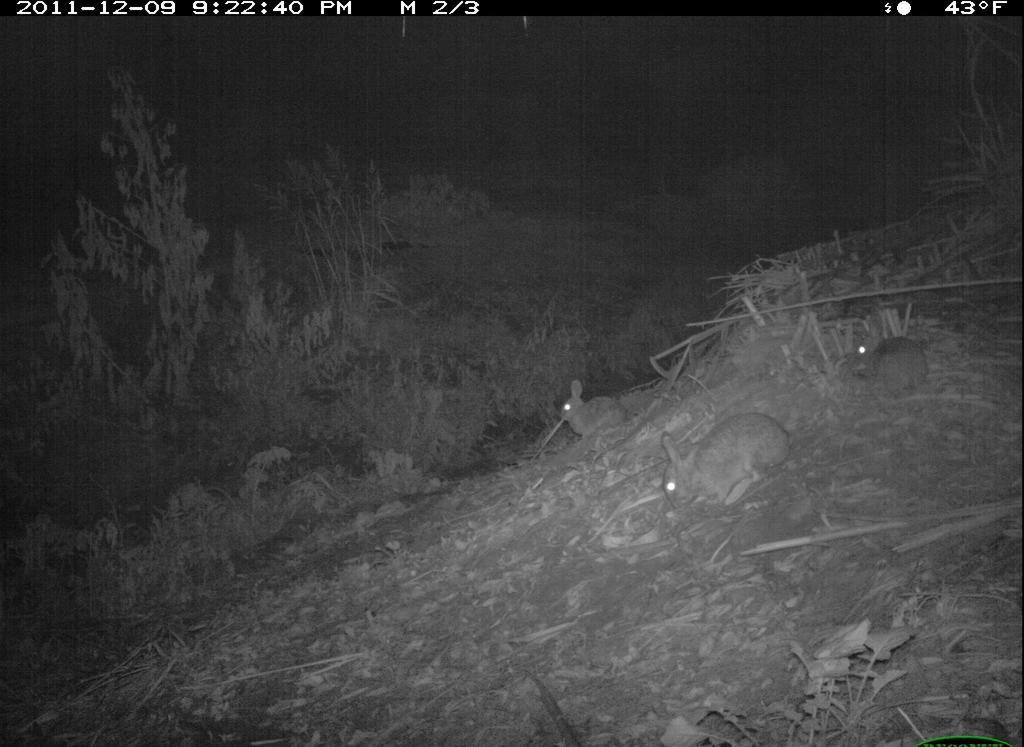rabbit: (658, 410, 798, 512), (849, 310, 935, 400), (558, 379, 630, 443)
